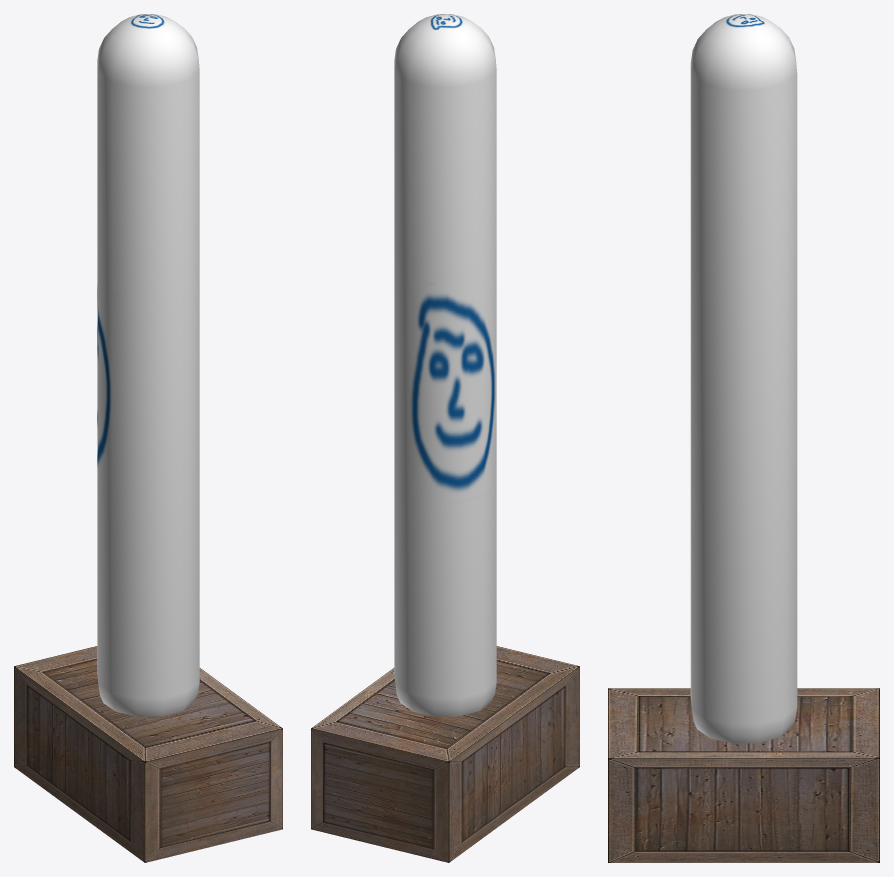
File: cartpole.fbx
The picture shows the model from 3 angles, left to right: view 1: azimuth 30°, elevation 25°; view 2: azimuth 150°, elevation 25°; view 3: azimuth 270°, elevation 25°; orthographic projection. The views are drawn at different scales.
Parts seen in each view (by area): view 1: pole-rb-hinge-capsule, cart-rb-box; view 2: pole-rb-hinge-capsule, cart-rb-box; view 3: pole-rb-hinge-capsule, cart-rb-box.
Part boxes in pixels (x1,y1,x2,y2): pole-rb-hinge-capsule: [97, 14, 199, 716]; cart-rb-box: [14, 646, 282, 862]; pole-rb-hinge-capsule: [394, 14, 496, 716]; cart-rb-box: [311, 646, 579, 862]; pole-rb-hinge-capsule: [690, 14, 797, 743]; cart-rb-box: [608, 688, 879, 862].
Size of the model in its own units: 14.31 by 23.54 by 77.31.
Materials: 2 (2 with a texture image).
